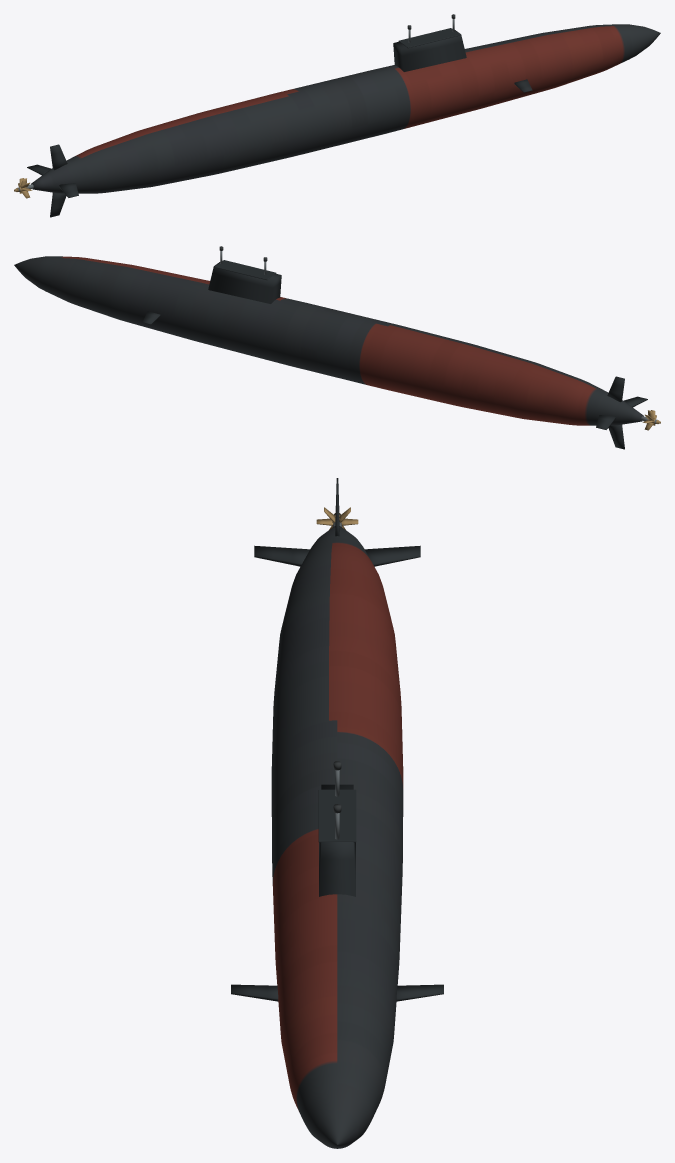
File: US_SSN_LosAngeles.glb
3 renders of one model, top to bottom at view 1: azimuth 30°, elevation 25°; view 2: azimuth 150°, elevation 25°; view 3: azimuth 270°, elevation 25°, orthographic. The views are drawn at different scales.
Parts seen in each view (by area): view 1: US_SSN_LosAngeles_LOD0; view 2: US_SSN_LosAngeles_LOD0; view 3: US_SSN_LosAngeles_LOD0.
Part boxes in pixels (box(x1,y1,x2,y2)): US_SSN_LosAngeles_LOD0: box(14, 14, 660, 217); US_SSN_LosAngeles_LOD0: box(14, 246, 660, 449); US_SSN_LosAngeles_LOD0: box(231, 478, 443, 1148).
Bounding box in the file's own units: 113 × 17.36 × 16.17.
Materials: 6 (1 with a texture image).
